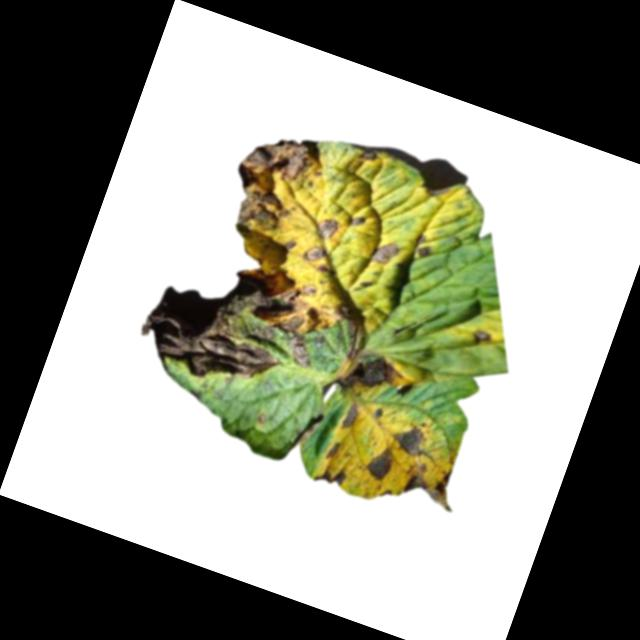Early_blight: (130, 277, 289, 403), (217, 121, 327, 252), (220, 238, 334, 343), (334, 344, 407, 410), (401, 458, 467, 517), (322, 293, 379, 359), (388, 419, 433, 460), (362, 443, 399, 485), (281, 335, 316, 370), (313, 459, 350, 491), (338, 399, 367, 436), (369, 235, 400, 269), (298, 240, 332, 270), (315, 214, 342, 243), (470, 325, 496, 352), (354, 143, 382, 167), (325, 440, 344, 462), (346, 212, 368, 231), (282, 234, 301, 256)
